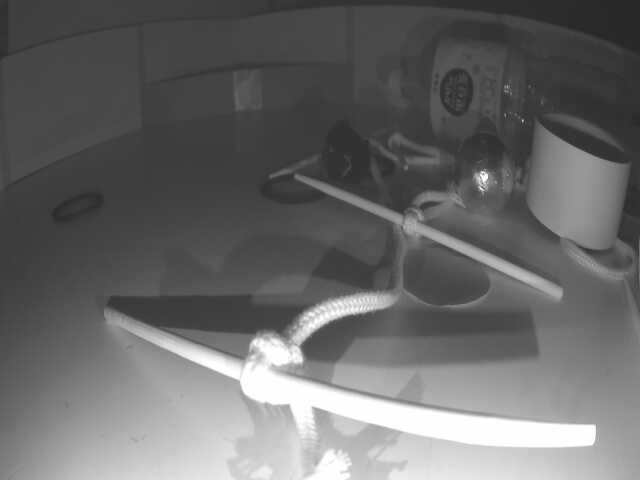Dead: (145, 66, 351, 130)
Live: (457, 130, 516, 214)
